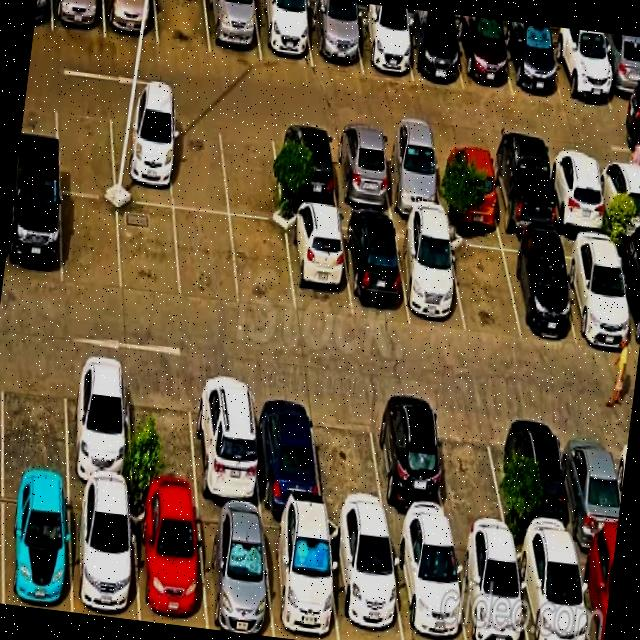empty: (435, 404, 509, 539), (311, 392, 386, 524), (128, 366, 198, 501), (2, 351, 67, 482), (447, 230, 521, 338), (219, 117, 282, 221), (174, 209, 239, 305), (118, 201, 180, 301), (230, 217, 295, 312), (168, 111, 228, 213), (55, 96, 115, 197), (61, 193, 121, 291), (155, 0, 210, 53)
occupied: (370, 399, 450, 531), (196, 503, 274, 637), (131, 495, 206, 628), (262, 512, 338, 640), (191, 374, 261, 509), (251, 382, 322, 513), (70, 486, 139, 620), (327, 519, 403, 640), (507, 411, 575, 544), (65, 356, 131, 492), (2, 480, 70, 612), (389, 529, 466, 640), (559, 237, 633, 349), (452, 533, 528, 640), (559, 418, 621, 548), (394, 222, 465, 331), (500, 236, 575, 339), (514, 539, 589, 640), (341, 215, 409, 321), (286, 209, 351, 317), (110, 103, 173, 207), (487, 148, 556, 235), (3, 182, 61, 285), (272, 124, 338, 210), (434, 142, 499, 227), (379, 135, 444, 218), (329, 130, 393, 214), (546, 29, 611, 110), (546, 153, 608, 236), (501, 20, 562, 103), (453, 16, 512, 95), (402, 14, 463, 88), (352, 7, 412, 81), (306, 1, 362, 72), (254, 0, 313, 67), (591, 34, 640, 114), (575, 545, 614, 640), (597, 157, 640, 238), (205, 0, 261, 61), (614, 242, 640, 354), (103, 0, 158, 44), (52, 0, 105, 37)
